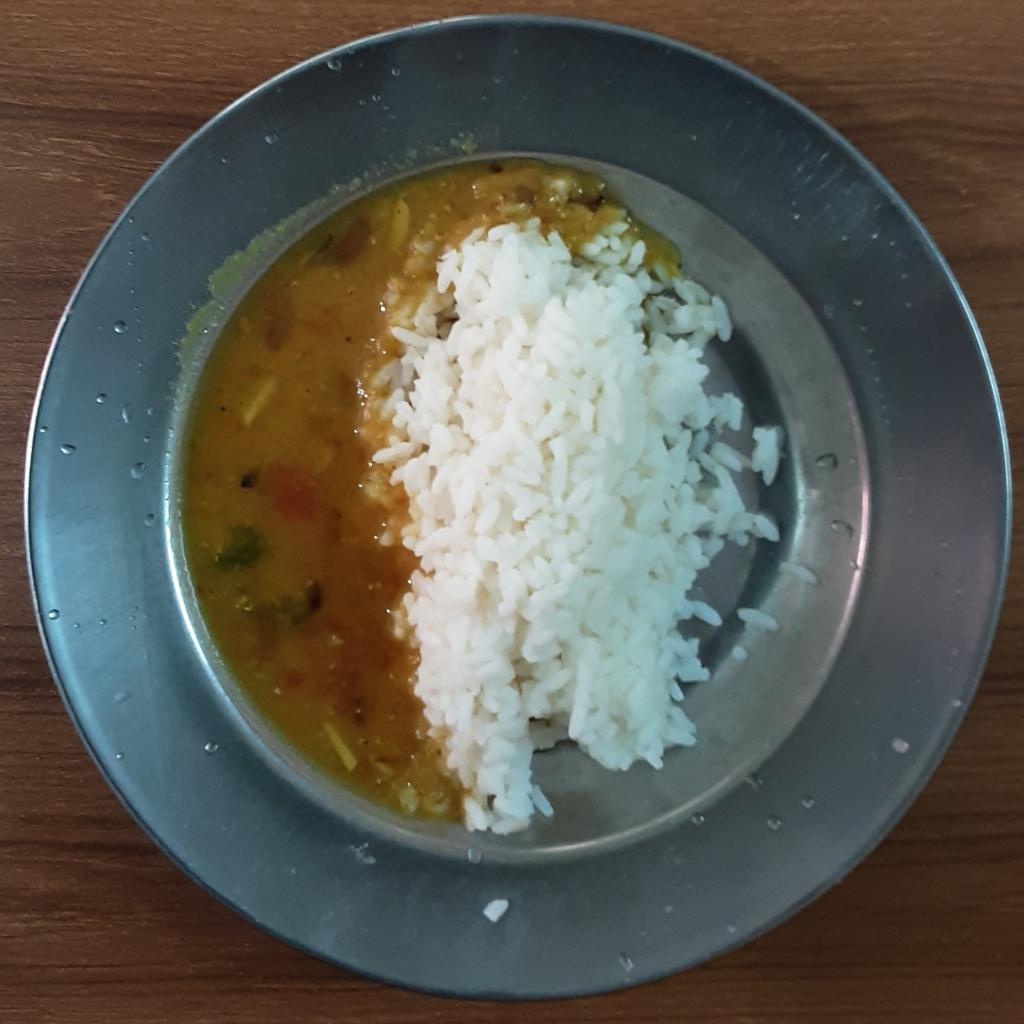daal: (178, 155, 625, 825)
rice: (363, 212, 779, 830)
